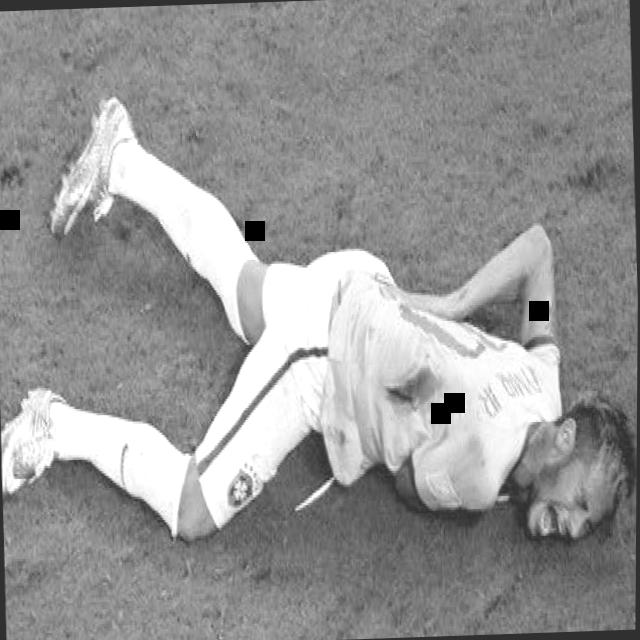Fall-Detected: (0, 30, 640, 609)
